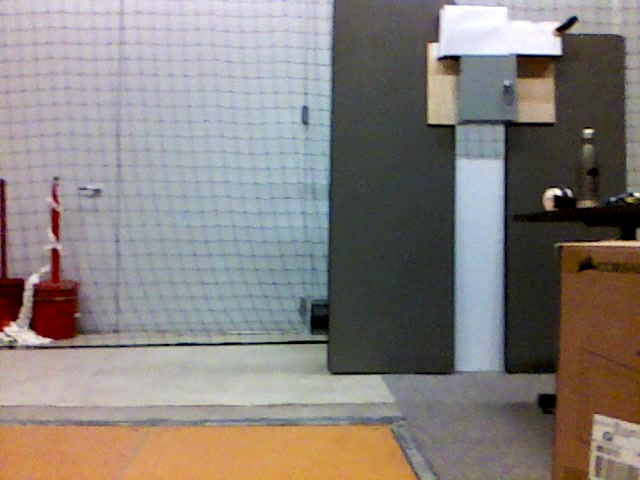box: (555, 239, 640, 480)
